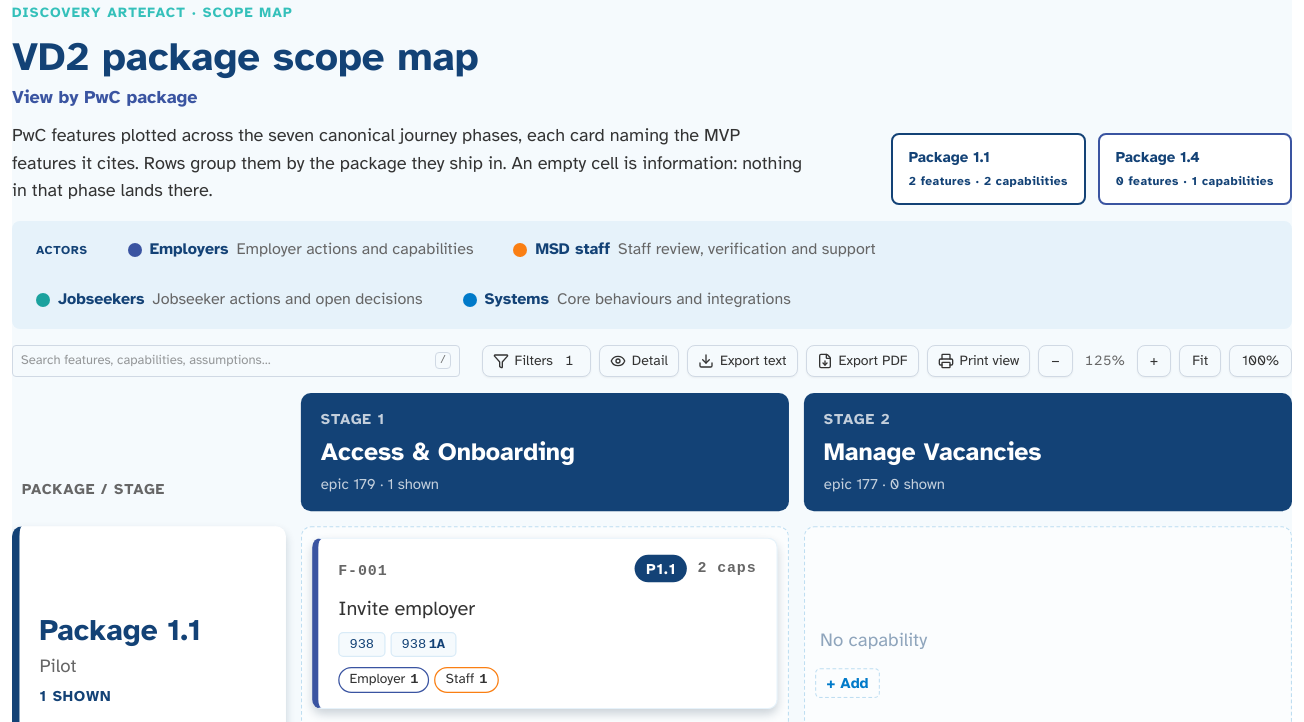
ScopeMap filter rail › reproduces a view from the URL alone
The width and height of the screenshot is (1304, 722).
Expected: the button named "F-001 Invite employer" is shown, [338,554,388,584]
Click the button "Filters 1" at (536, 360), box [482,344,591,376]
(page scrolled)
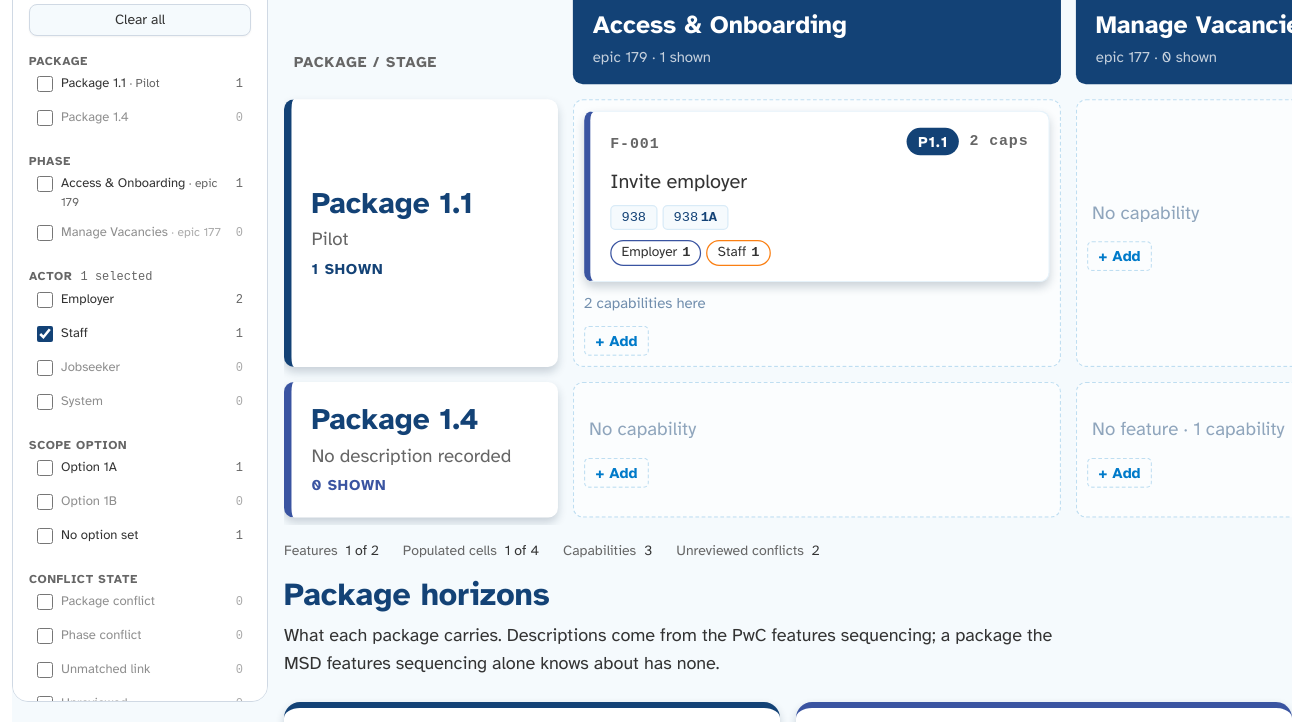
Expected: the checkbox labelled "Staff 1" is checked, [37,326,53,342]
